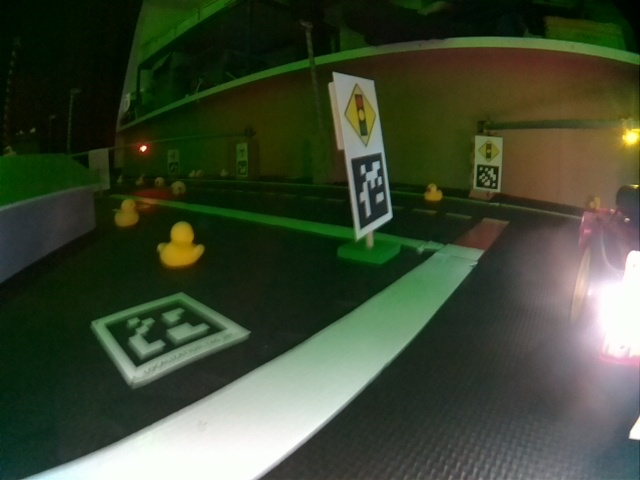Duckie: (158, 221, 202, 267), (115, 199, 139, 227), (425, 184, 442, 201)
QR code: (90, 293, 250, 384), (350, 152, 391, 233), (474, 166, 500, 191)
Signal sign: (340, 78, 379, 149), (478, 139, 500, 163)
